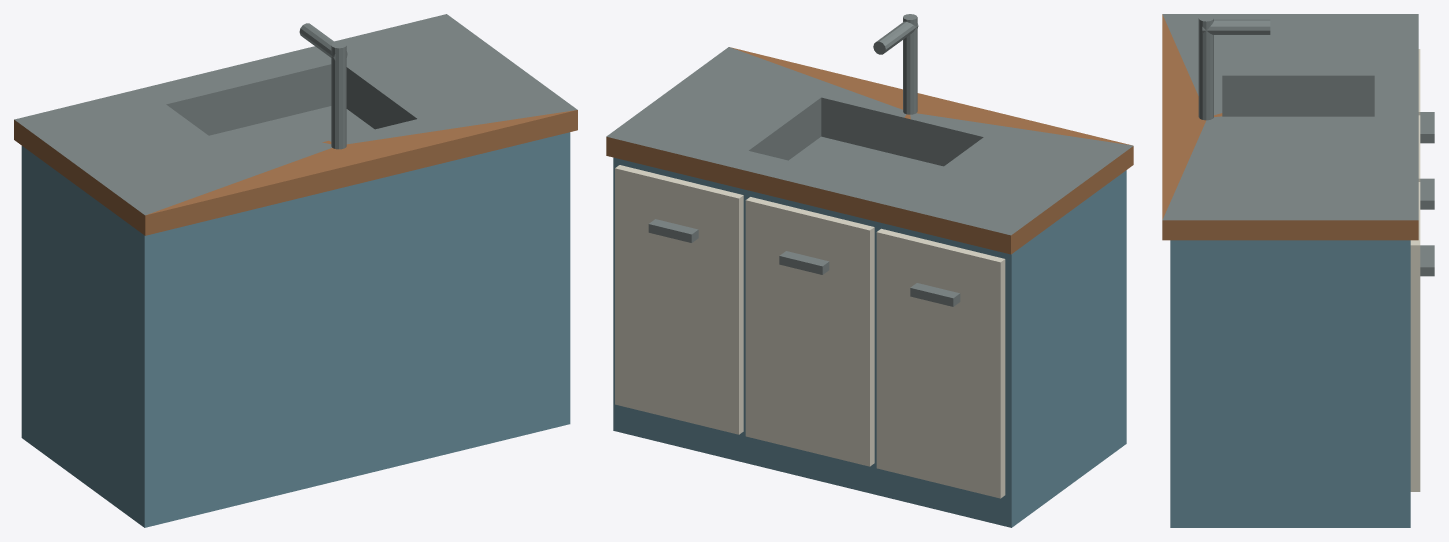
The model's file is kitchen_counter.glb.
3 views of the same model, side by side, from view 1: azimuth 30°, elevation 25°; view 2: azimuth 150°, elevation 25°; view 3: azimuth 270°, elevation 25° (orthographic). The views are drawn at different scales.
Parts seen in each view (by area): view 1: kitchen_counter; view 2: kitchen_counter; view 3: kitchen_counter.
Boxes of the visible parts, left/top/right/bottom form: kitchen_counter: left=14, top=14, right=577, bottom=527; kitchen_counter: left=606, top=14, right=1133, bottom=527; kitchen_counter: left=1162, top=14, right=1434, bottom=527.
Size of the model in its own units: 1.22 by 1.12 by 0.68.
